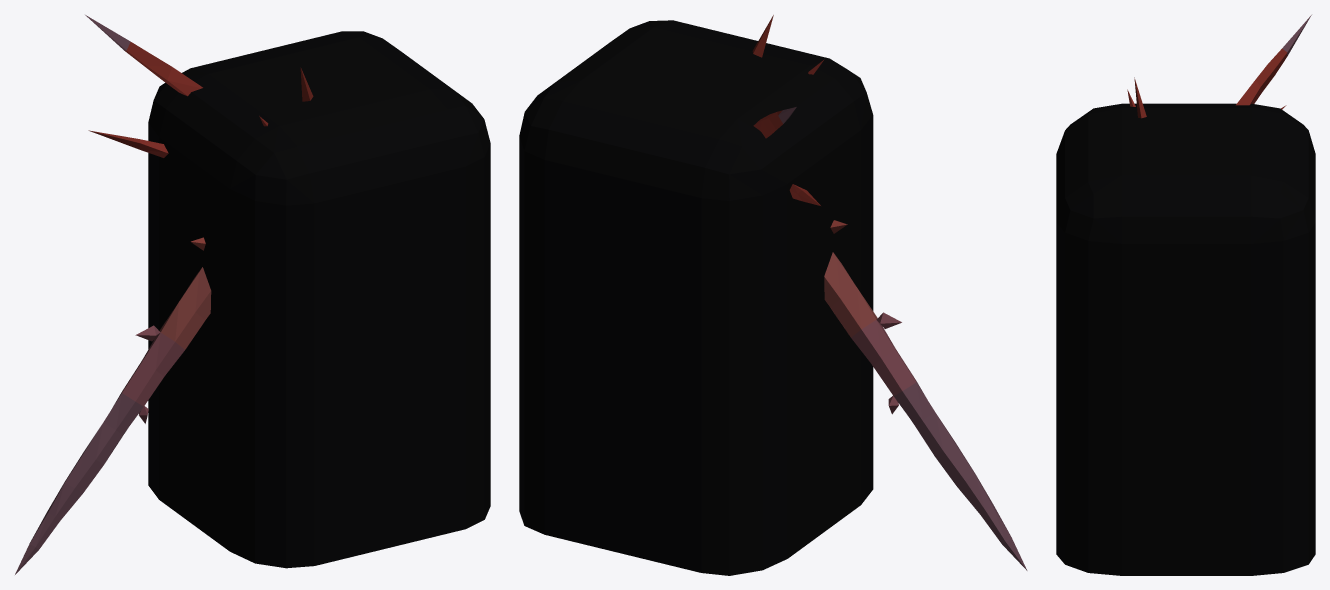
File: vardorvis.gltf
The picture shows the model from 3 angles, left to right: view 1: azimuth 30°, elevation 25°; view 2: azimuth 150°, elevation 25°; view 3: azimuth 270°, elevation 25°; orthographic projection. The views are drawn at different scales.
Size of the model in its own units: 260 by 269 by 146.
2 materials, 2 textured.
